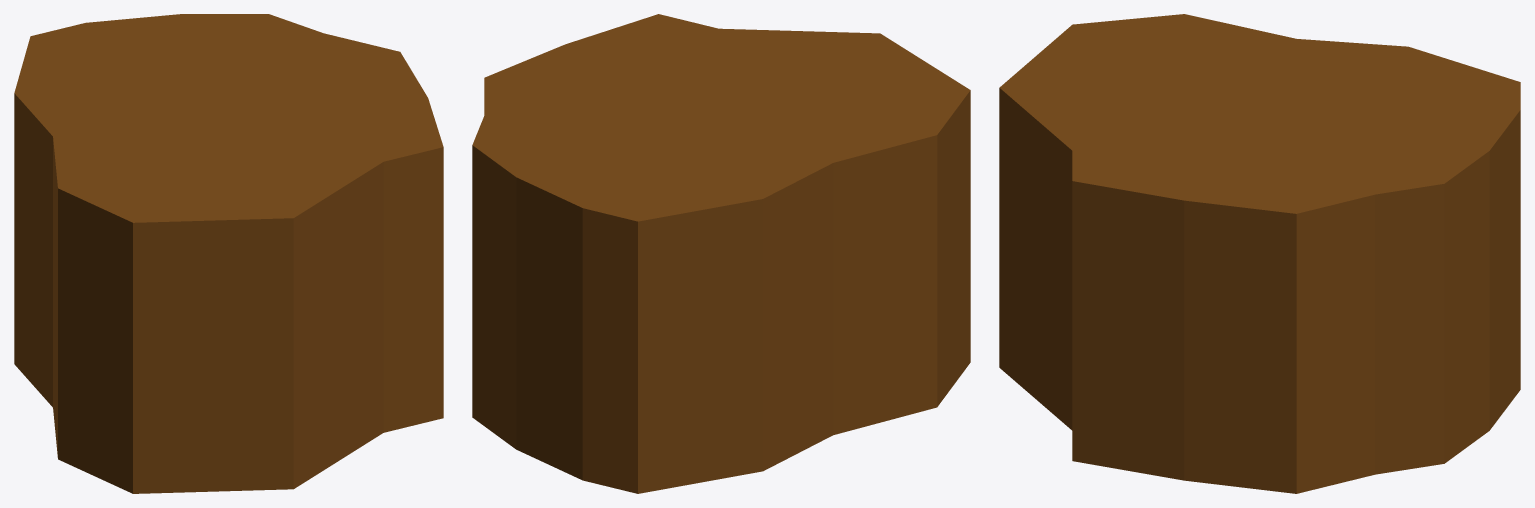
File: Rocas.fbx
The picture shows the model from 3 angles, left to right: view 1: azimuth 30°, elevation 25°; view 2: azimuth 150°, elevation 25°; view 3: azimuth 270°, elevation 25°; orthographic projection. The views are drawn at different scales.
Visible parts, largest first — view 1: Cube; view 2: Cube; view 3: Cube.
Part boxes in pixels (x1,y1,x2,y2): Cube: [14, 14, 443, 493]; Cube: [472, 14, 970, 493]; Cube: [999, 14, 1520, 493].
Size of the model in its own units: 211 by 138 by 233.
